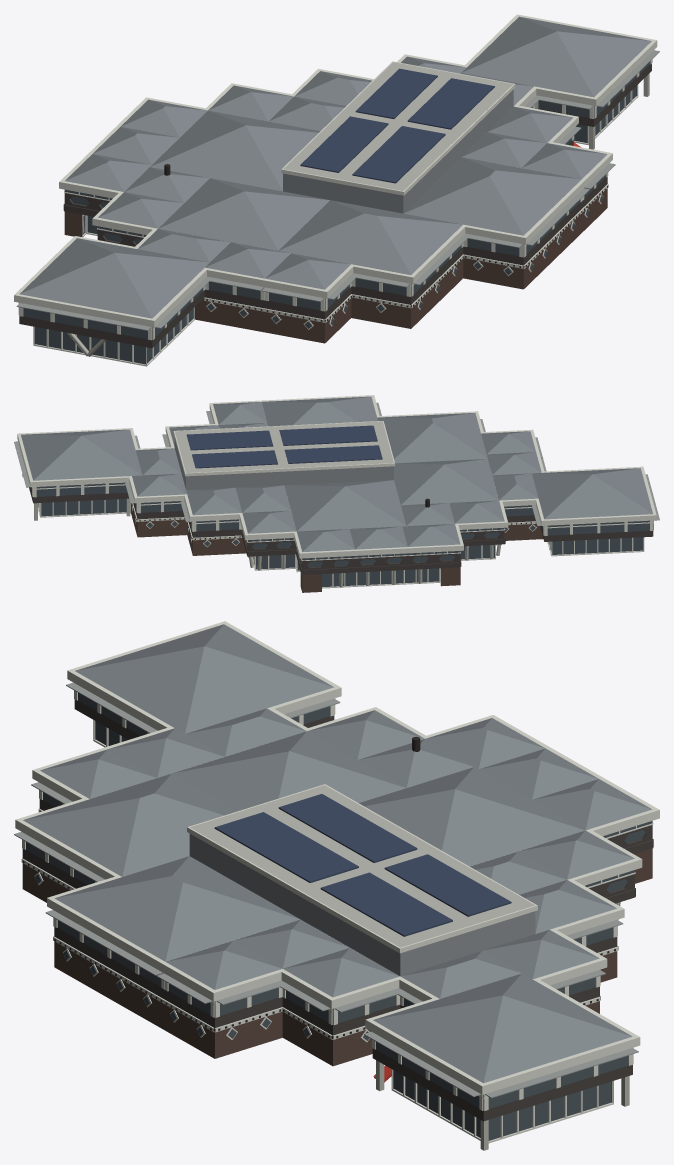
File: tolhuis-paviljoen.glb
3 renders of one model, top to bottom at view 1: azimuth 30°, elevation 25°; view 2: azimuth 150°, elevation 25°; view 3: azimuth 270°, elevation 25°, orthographic. The views are drawn at different scales.
Parts seen in each view (by area): view 1: tolhuis-paviljoen; view 2: tolhuis-paviljoen; view 3: tolhuis-paviljoen.
Boxes of the visible parts, bbox=[...] form: tolhuis-paviljoen: bbox=[14, 14, 659, 366]; tolhuis-paviljoen: bbox=[14, 395, 659, 592]; tolhuis-paviljoen: bbox=[14, 621, 659, 1150].
Size of the model in its own units: 94.25 by 9.6 by 55.16.
